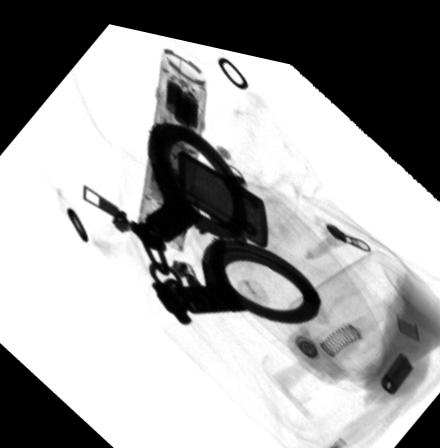Baton: (137, 41, 205, 245)
HandCuffs: (128, 115, 321, 317)
Lighter: (175, 142, 267, 235)
